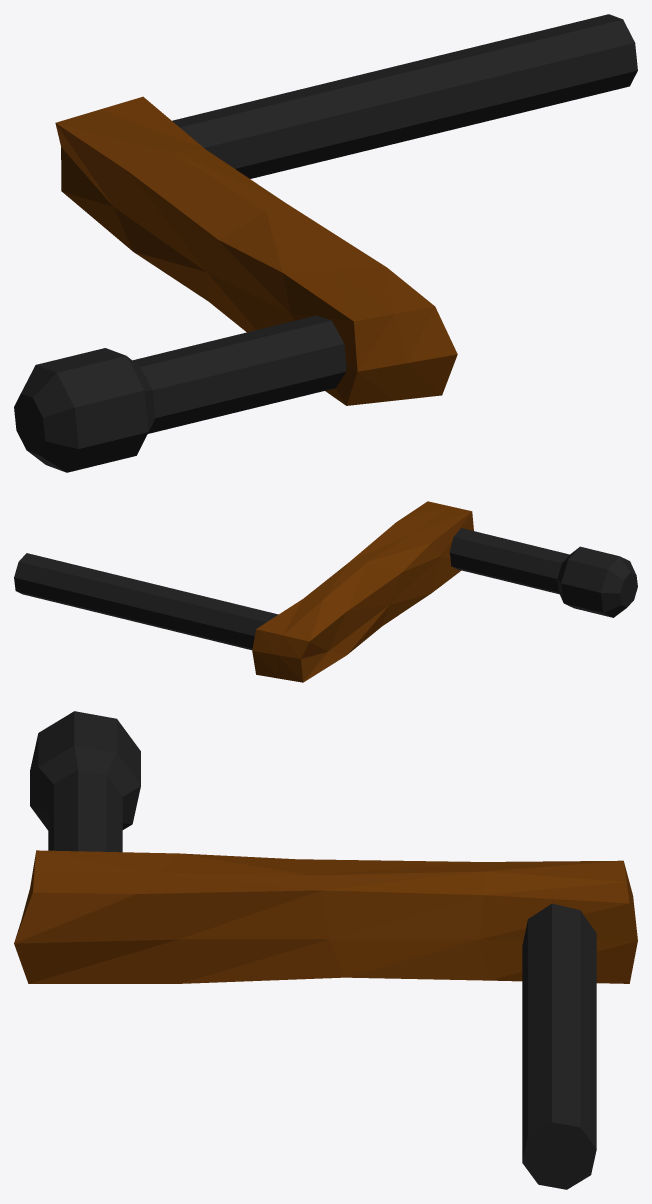
File: Lever.fbx
3 renders of one model, top to bottom at view 1: azimuth 30°, elevation 25°; view 2: azimuth 150°, elevation 25°; view 3: azimuth 270°, elevation 25°, orthographic. The views are drawn at different scales.
Parts seen in each view (by area): view 1: Cylinder.001; view 2: Cylinder.001; view 3: Cylinder.001.
Boxes of the visible parts, x1,y1,x2,y2 form: Cylinder.001: (14, 14, 637, 472); Cylinder.001: (14, 501, 637, 682); Cylinder.001: (14, 711, 637, 1189).
Size of the model in its own units: 48.47 by 5.63 by 31.55.
